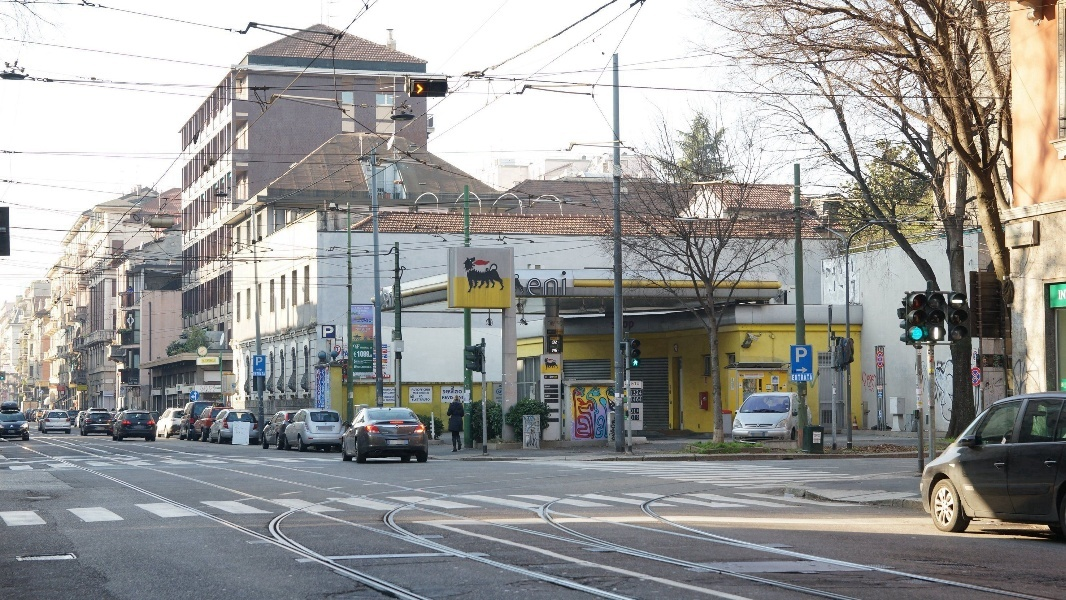text: (321, 369, 336, 400), (529, 271, 544, 297), (545, 271, 560, 297), (865, 372, 877, 393), (323, 326, 336, 338), (561, 271, 567, 297), (317, 371, 320, 408), (801, 348, 808, 363), (993, 355, 1008, 362), (354, 351, 368, 358), (241, 424, 249, 436), (625, 321, 635, 330), (994, 362, 1008, 368), (353, 345, 368, 350), (795, 348, 800, 363), (801, 375, 813, 381), (358, 351, 368, 358), (199, 386, 208, 393), (257, 356, 263, 366), (630, 390, 640, 396), (50, 384, 64, 388), (130, 378, 144, 382), (417, 398, 431, 402), (449, 390, 463, 394), (754, 433, 768, 437), (631, 397, 640, 403), (631, 408, 640, 414), (631, 415, 640, 421), (236, 424, 240, 436), (792, 375, 800, 381), (129, 382, 144, 385), (545, 395, 560, 398), (545, 386, 560, 389), (69, 384, 80, 388), (357, 309, 368, 313), (345, 345, 352, 351), (345, 350, 352, 356), (354, 366, 368, 369), (417, 389, 431, 392), (862, 372, 864, 393), (358, 330, 368, 334), (355, 307, 368, 310), (355, 361, 368, 364), (417, 392, 430, 395), (419, 395, 432, 398), (257, 372, 266, 376), (631, 382, 640, 386), (209, 386, 214, 393), (385, 396, 396, 399), (385, 399, 396, 402), (552, 341, 560, 345), (552, 349, 560, 353), (792, 371, 800, 375), (58, 386, 64, 391), (134, 382, 144, 385), (358, 312, 368, 315), (358, 325, 368, 328), (385, 392, 395, 395), (442, 395, 448, 400), (550, 376, 560, 379), (209, 359, 216, 363), (369, 351, 373, 358), (354, 372, 368, 374), (771, 369, 784, 371), (527, 271, 528, 297), (81, 386, 86, 391), (449, 395, 454, 400), (202, 359, 208, 363), (216, 387, 224, 390), (356, 328, 368, 330), (385, 389, 396, 391), (361, 347, 368, 350), (745, 373, 752, 376), (443, 390, 448, 394), (459, 396, 464, 400), (817, 438, 821, 443), (385, 365, 388, 371), (622, 321, 624, 330), (753, 373, 759, 376), (817, 434, 821, 438), (337, 347, 340, 352), (385, 375, 390, 378), (813, 438, 816, 443), (253, 372, 256, 376), (369, 347, 373, 350), (369, 361, 373, 364), (369, 366, 373, 369), (385, 350, 388, 354), (385, 355, 388, 359), (412, 389, 416, 392), (413, 398, 416, 402), (641, 390, 643, 396), (641, 397, 643, 403), (385, 346, 388, 349), (382, 350, 384, 354), (382, 355, 384, 359), (814, 434, 816, 438), (382, 346, 384, 349), (383, 365, 384, 371), (369, 372, 372, 374), (414, 392, 416, 395), (79, 386, 80, 391), (65, 386, 66, 391), (369, 328, 371, 330), (369, 307, 370, 310), (383, 375, 384, 378), (383, 392, 384, 395), (383, 396, 384, 399), (383, 399, 384, 402), (383, 389, 384, 391)
